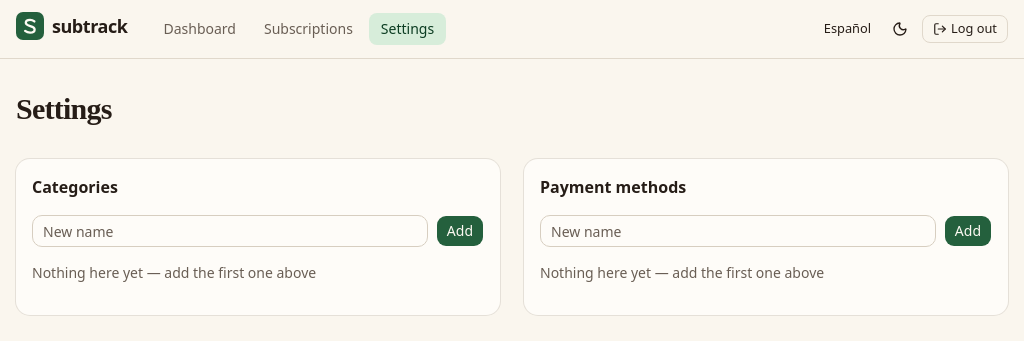
adds a category
This screenshot has width=1024, height=341.
Type "Music" into the field labelled "New name" below "Categories" at (230,231), box top-left (32, 215), bottom-right (428, 247)
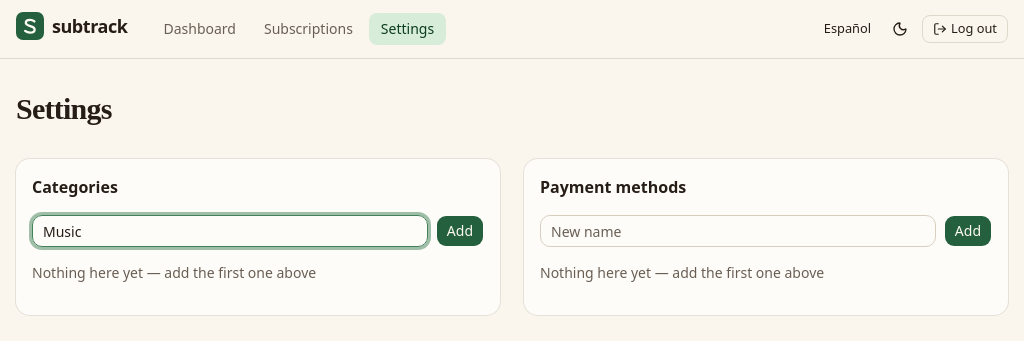
Click the 1st button "Add" at (460,231), box top-left (436, 215), bottom-right (484, 247)
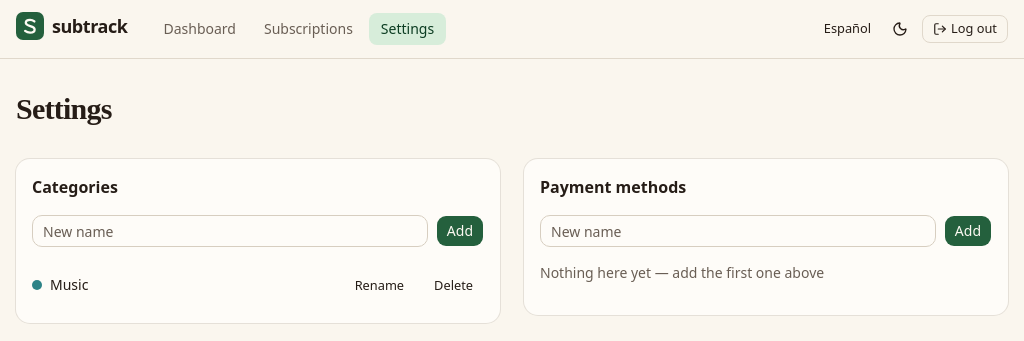
Result: the text "Music" is shown at top-left (50, 275), bottom-right (88, 294)
Result: the field labelled "New name" below "Categories" is empty at top-left (32, 215), bottom-right (428, 247)
